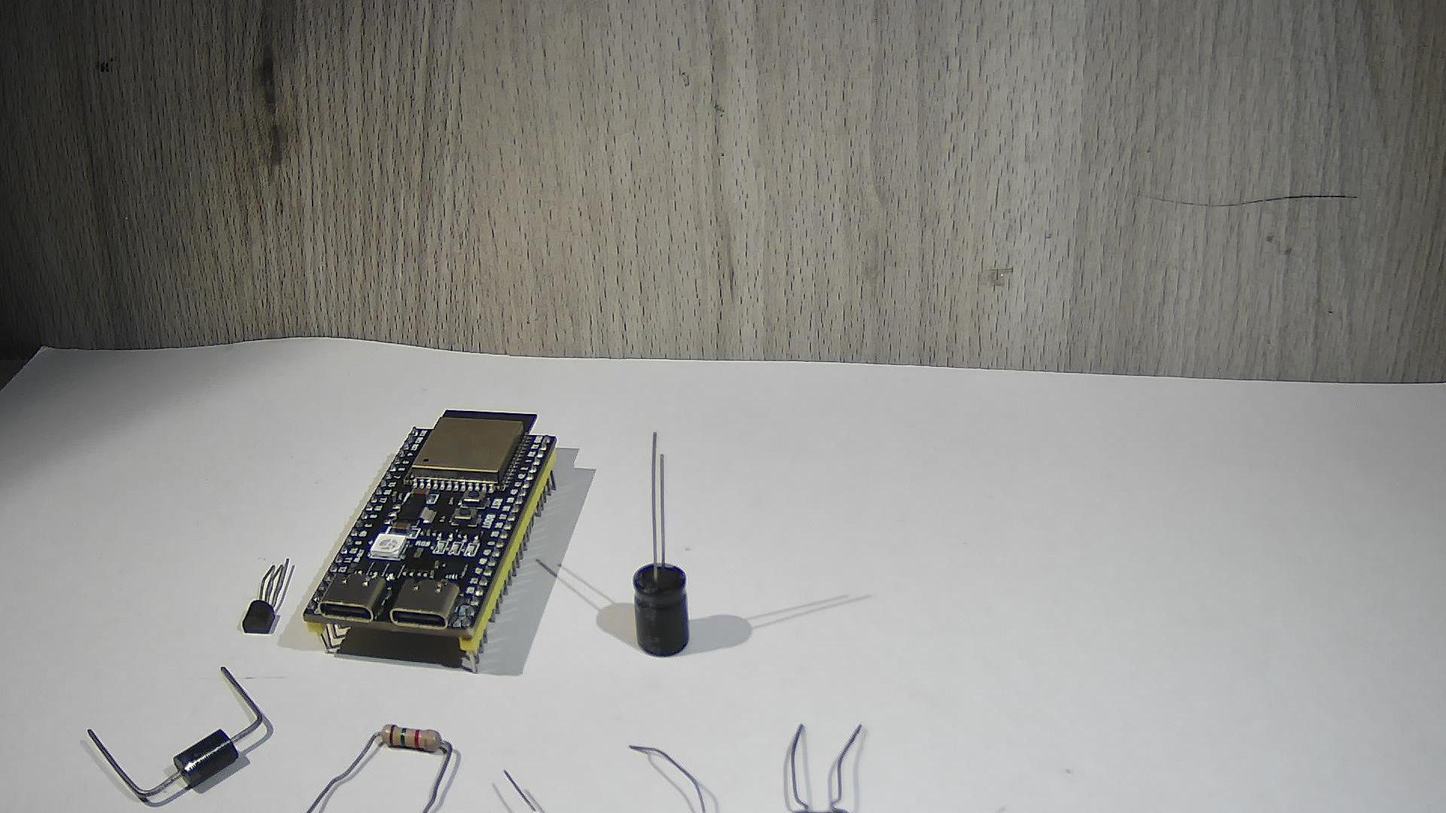Capacitor: (603, 432, 727, 669)
Diodo: (135, 716, 299, 812)
ESP32: (296, 385, 560, 665)
Resistencia: (337, 709, 462, 813), (537, 760, 723, 813)
Transistor: (226, 531, 297, 675)
capacitor ceramico: (775, 713, 876, 813)
